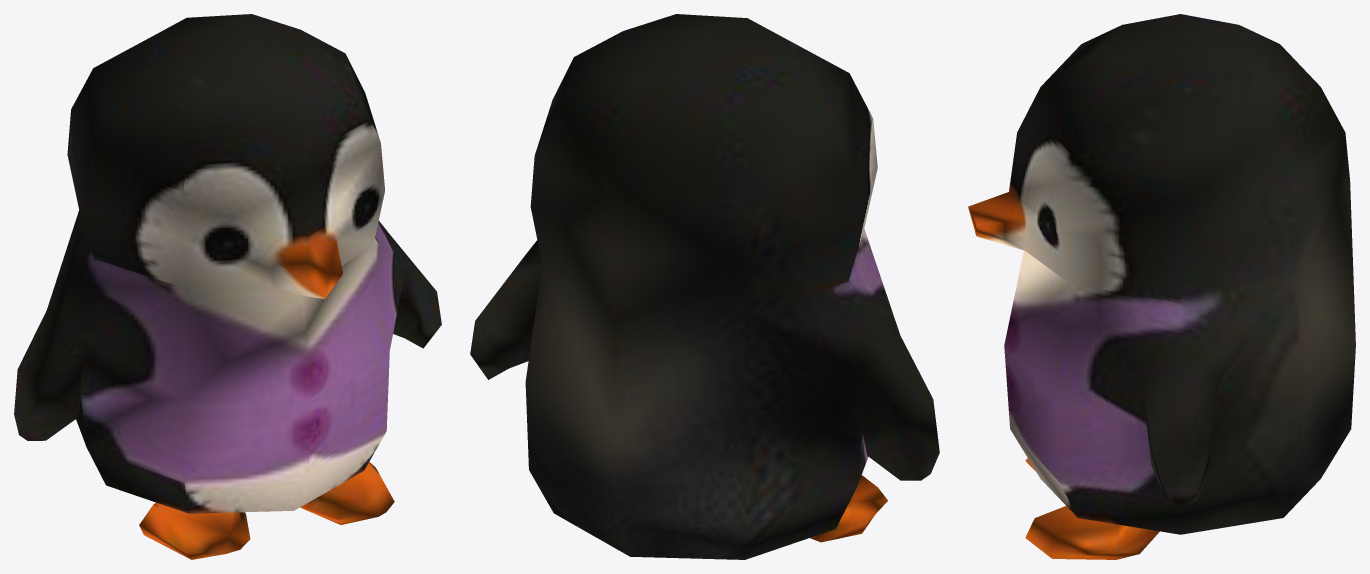
The model's file is penguin-felt-01-23-purple-vest.gltf.
3 renders of one model, left to right at view 1: azimuth 30°, elevation 25°; view 2: azimuth 150°, elevation 25°; view 3: azimuth 270°, elevation 25°, orthographic. The views are drawn at different scales.
Visible parts, largest first — view 1: penguin-felt-01-23-purple-vest; view 2: penguin-felt-01-23-purple-vest; view 3: penguin-felt-01-23-purple-vest.
Part boxes in pixels (x1,y1,x2,y2): penguin-felt-01-23-purple-vest: [14, 14, 441, 559]; penguin-felt-01-23-purple-vest: [470, 14, 939, 559]; penguin-felt-01-23-purple-vest: [968, 14, 1355, 559].
Bounding box in the file's own units: 0.2 × 0.2108 × 0.1559.
1 material, 1 textured.
